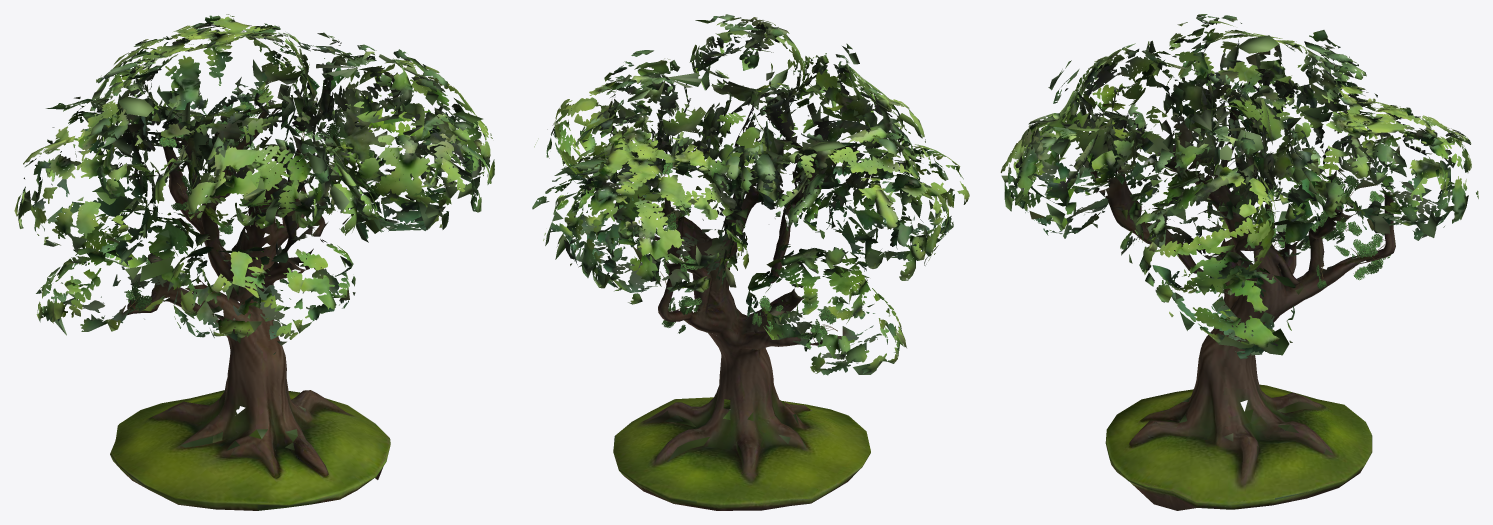
Rendered from tree-1459-near.glb.
3 views of the same model, side by side, from view 1: azimuth 30°, elevation 25°; view 2: azimuth 150°, elevation 25°; view 3: azimuth 270°, elevation 25° (orthographic). The views are drawn at different scales.
Visible parts, largest first — view 1: Foliage, Wood; view 2: Foliage, Wood; view 3: Foliage, Wood.
Boxes of the visible parts, x1,y1,x2,y2 form: Foliage: (14, 14, 494, 414); Wood: (110, 109, 390, 510); Foliage: (532, 14, 969, 375); Wood: (613, 113, 870, 510); Foliage: (1000, 14, 1478, 358); Wood: (1090, 109, 1397, 510).
Bounding box in the file's own units: 13.28 × 12 × 13.03.
Materials: 2 (2 with a texture image).
